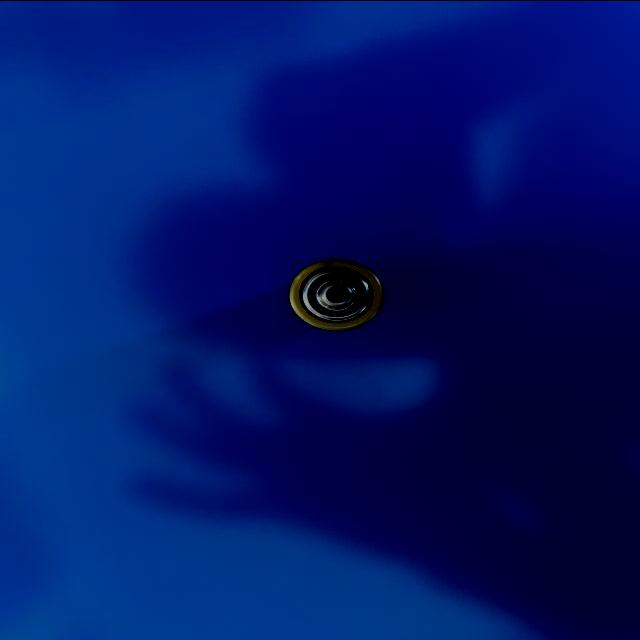AA: (286, 253, 385, 331)
